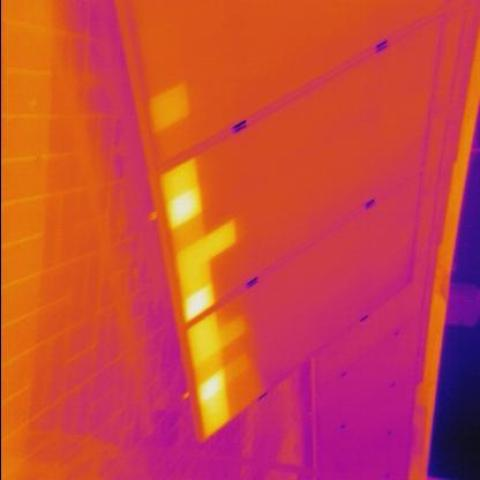fault: (168, 184, 197, 228), (186, 287, 208, 319), (197, 374, 221, 403)
